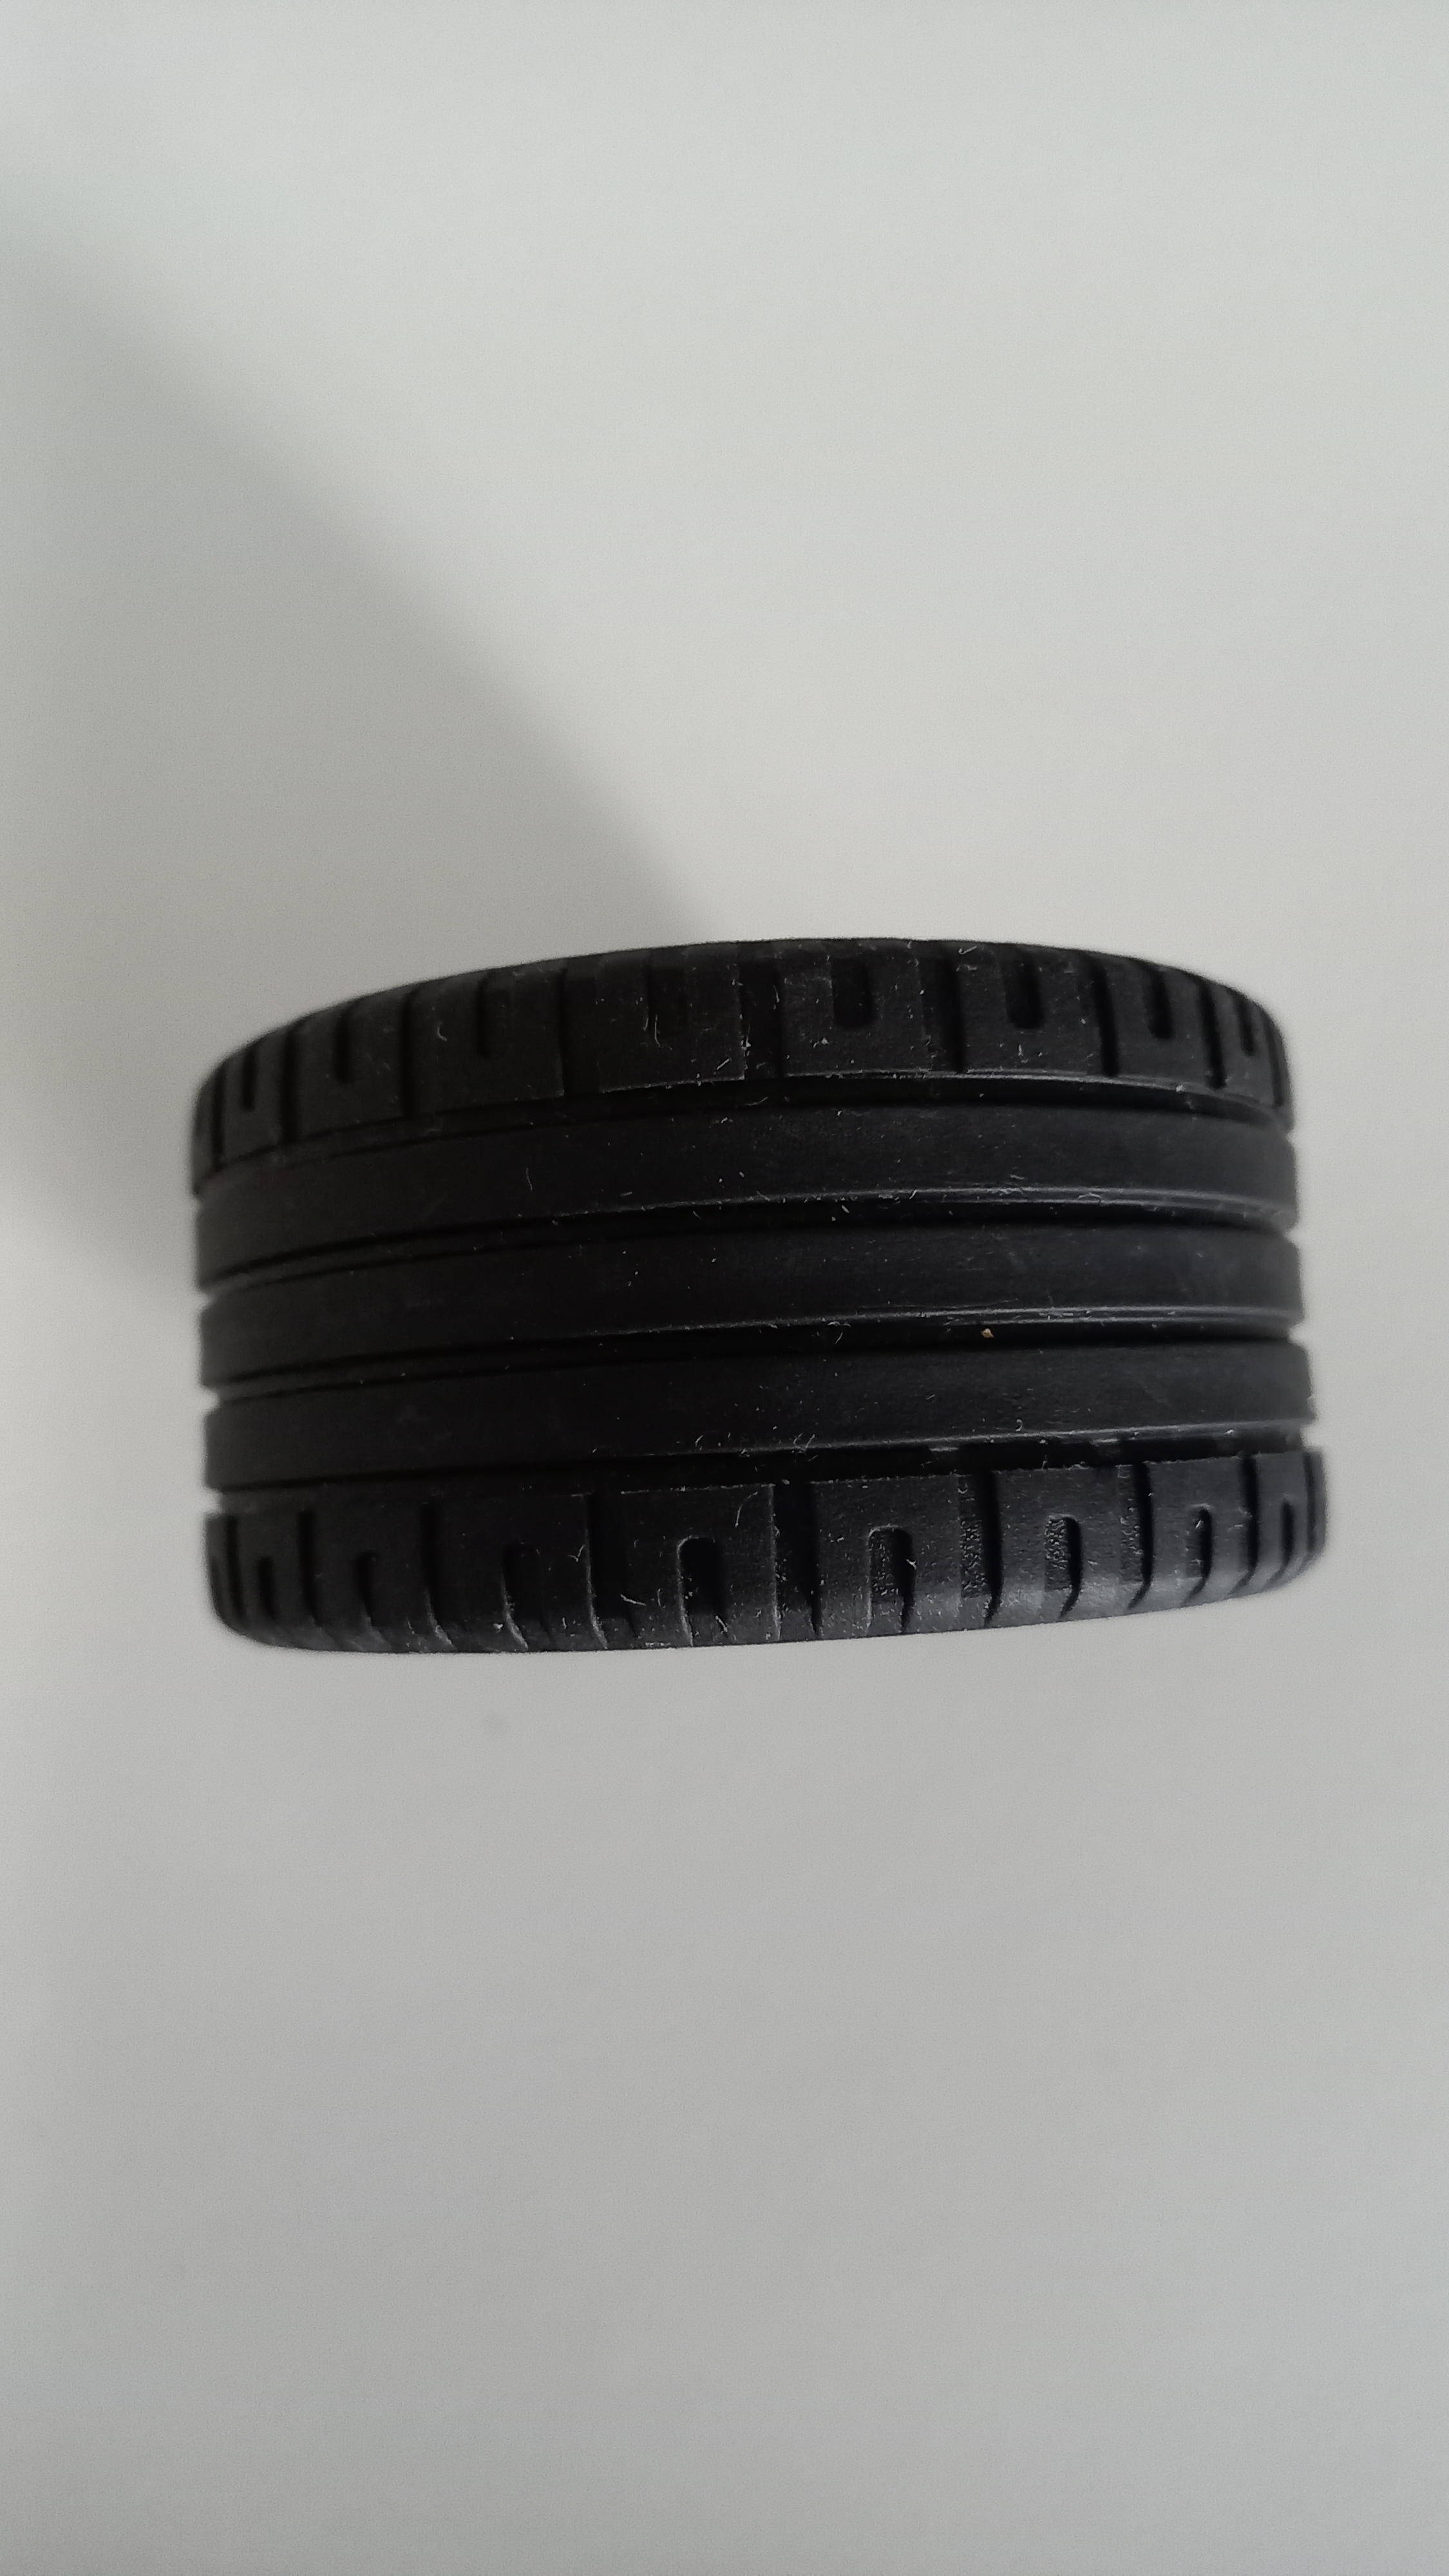Rad: (154, 916, 1350, 1677)
